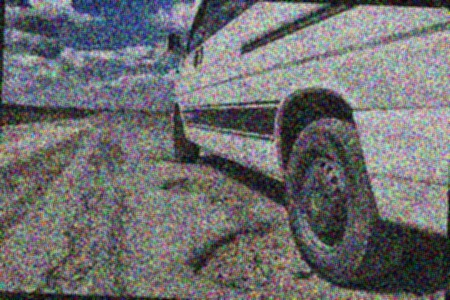pothole: (188, 217, 332, 300), (160, 174, 236, 196), (152, 153, 180, 163)
